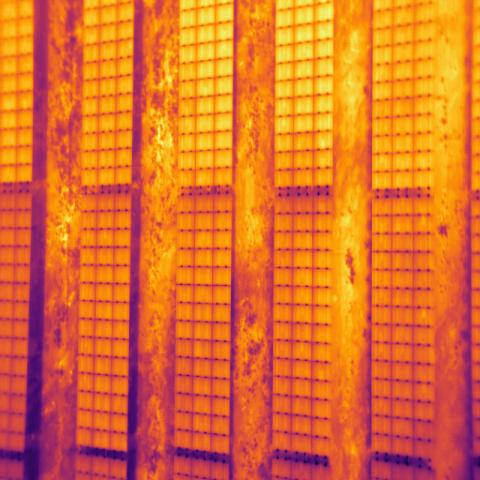fault: (1, 108, 16, 148)
